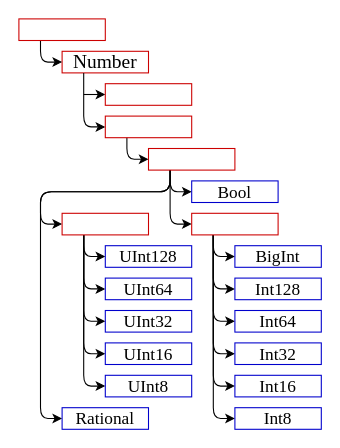
The diagram is 340 pixels wide and 448 high, and some of its shapes have lost their labels. The shapes that lost their labels are listed below. From the top down, each one's box as (x1, y1, x2, y2) in pixels, then its label:
(18, 18, 105, 40): Any
(104, 83, 192, 105): Complex
(104, 115, 192, 138): Real
(147, 147, 235, 170): Integer
(61, 212, 148, 235): Unsigned
(191, 212, 278, 235): Signed
